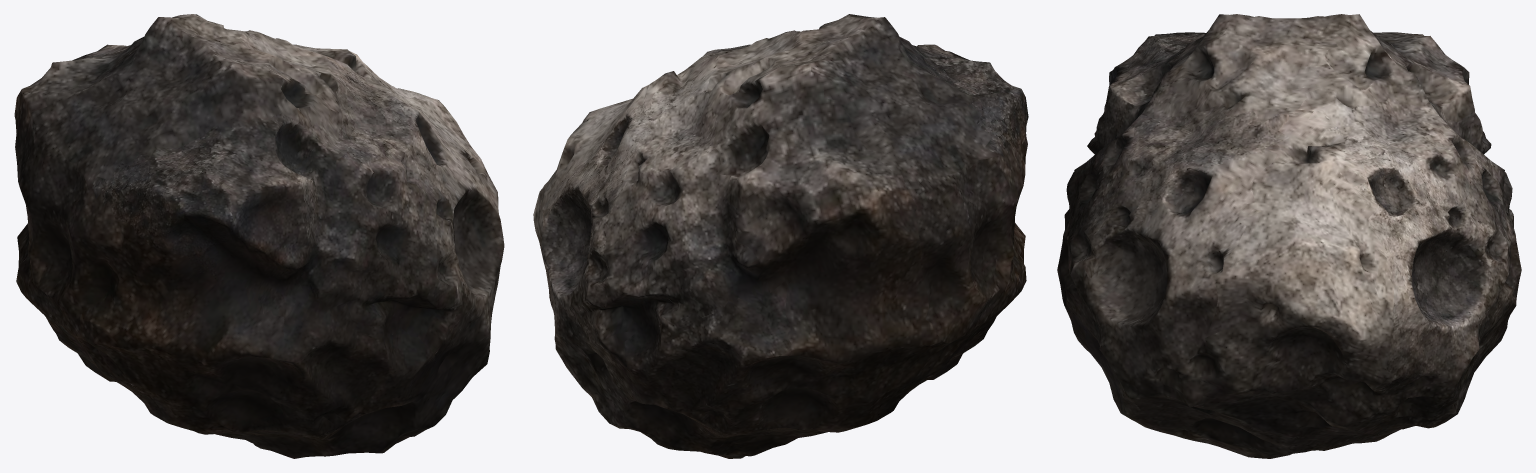
Rendered from rocky asteroid 3d model.glb.
3 renders of one model, left to right at view 1: azimuth 30°, elevation 25°; view 2: azimuth 150°, elevation 25°; view 3: azimuth 270°, elevation 25°, orthographic. The views are drawn at different scales.
Parts seen in each view (by area): view 1: tripo_node_1767edf5-680f-4359-8d1a-588773e0c9f9; view 2: tripo_node_1767edf5-680f-4359-8d1a-588773e0c9f9; view 3: tripo_node_1767edf5-680f-4359-8d1a-588773e0c9f9.
Part boxes in pixels (left/top/right/bottom): tripo_node_1767edf5-680f-4359-8d1a-588773e0c9f9: left=14, top=14, right=504, bottom=458; tripo_node_1767edf5-680f-4359-8d1a-588773e0c9f9: left=533, top=14, right=1028, bottom=458; tripo_node_1767edf5-680f-4359-8d1a-588773e0c9f9: left=1057, top=14, right=1521, bottom=458.
Bounding box in the file's own units: 0.9977 × 0.9367 × 1.
1 material, 1 textured.
